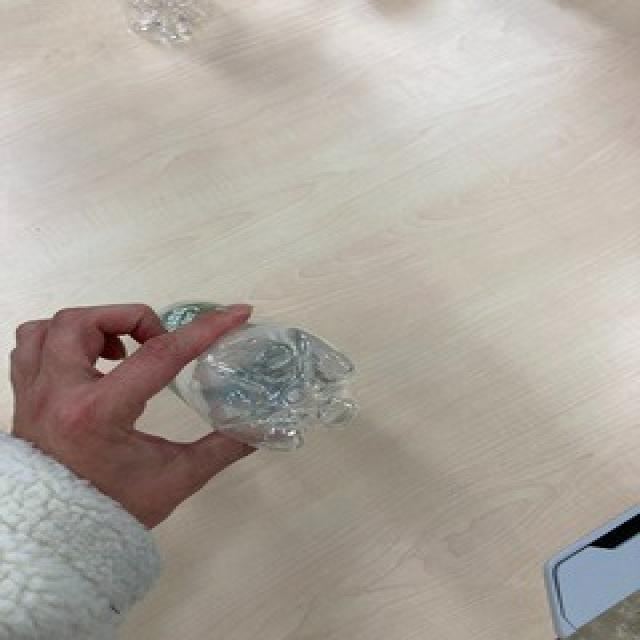good: (146, 288, 362, 466)
